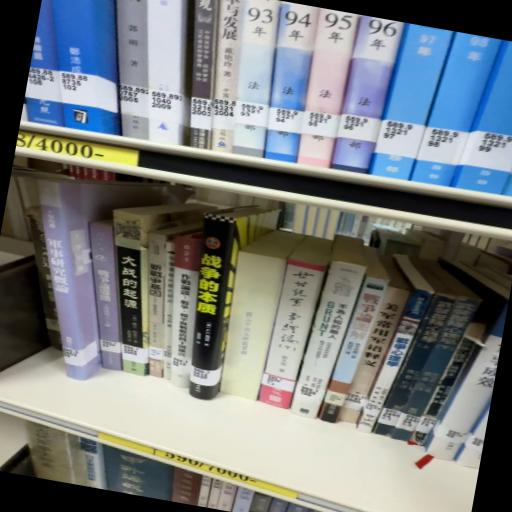backward: (220, 231, 304, 402)
book: (210, 226, 333, 417), (65, 217, 150, 373)
